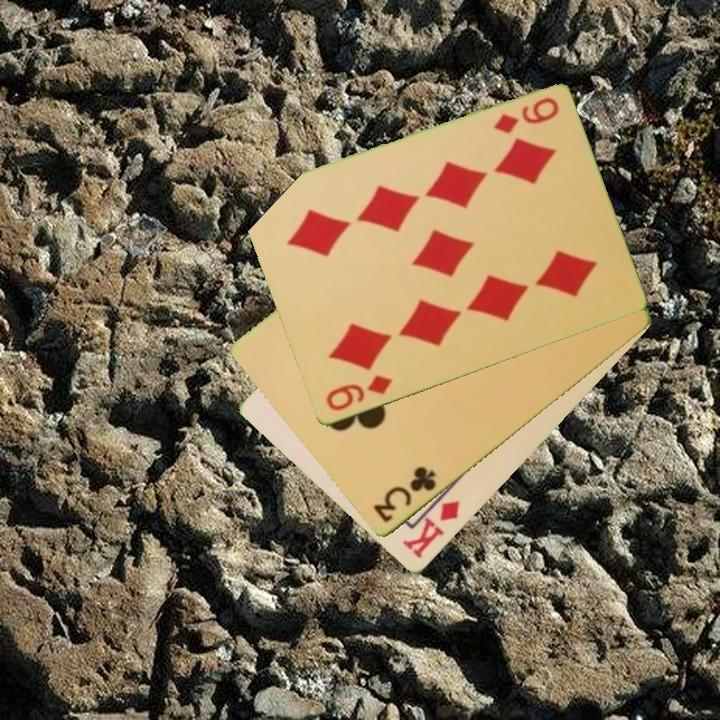3c: (369, 463, 440, 527)
9d: (322, 372, 395, 415), (489, 94, 562, 137)
Kd: (398, 497, 463, 563)
